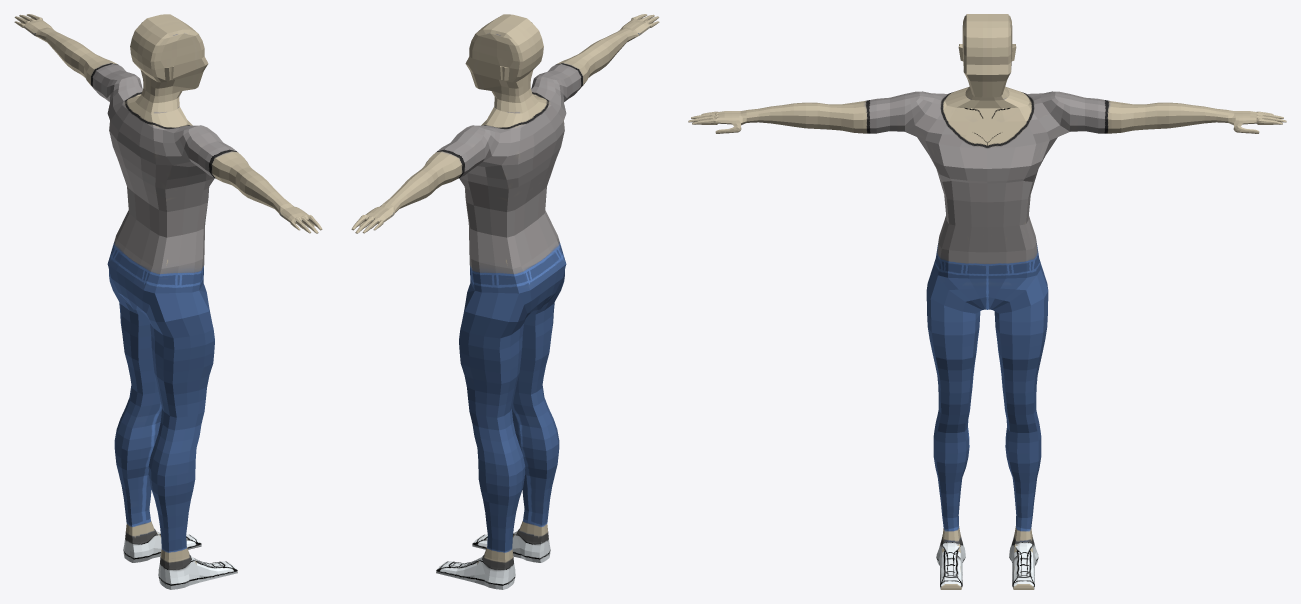
Rendered from AdultFemale.fbx.
The picture shows the model from 3 angles, left to right: view 1: azimuth 30°, elevation 25°; view 2: azimuth 150°, elevation 25°; view 3: azimuth 270°, elevation 25°; orthographic projection.
Parts seen in each view (by area): view 1: Cube; view 2: Cube; view 3: Cube.
Boxes of the visible parts, x1,y1,x2,y2 form: Cube: [14, 14, 322, 589]; Cube: [351, 14, 659, 589]; Cube: [688, 14, 1286, 589].
Bounding box in the file's own units: 85.95 × 497 × 492.
